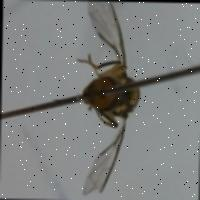Oriental-fruit-fly: (57, 0, 155, 197)
